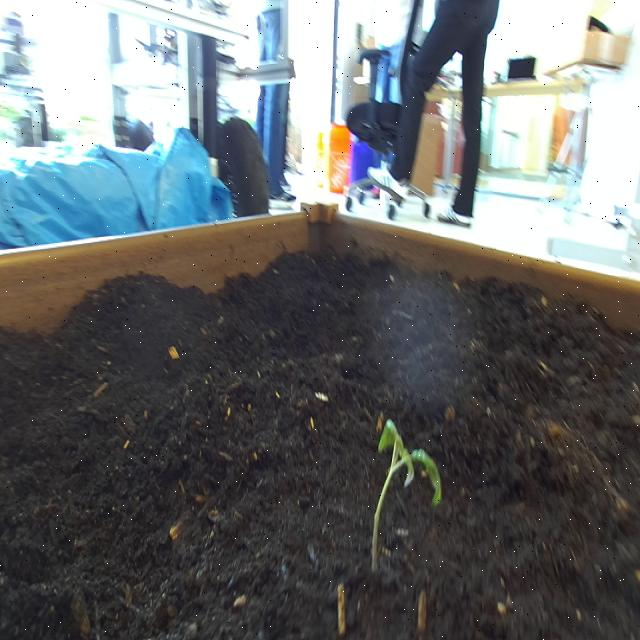Healthy: (361, 409, 446, 585)
